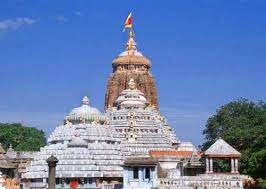Temple: (26, 12, 200, 180)
